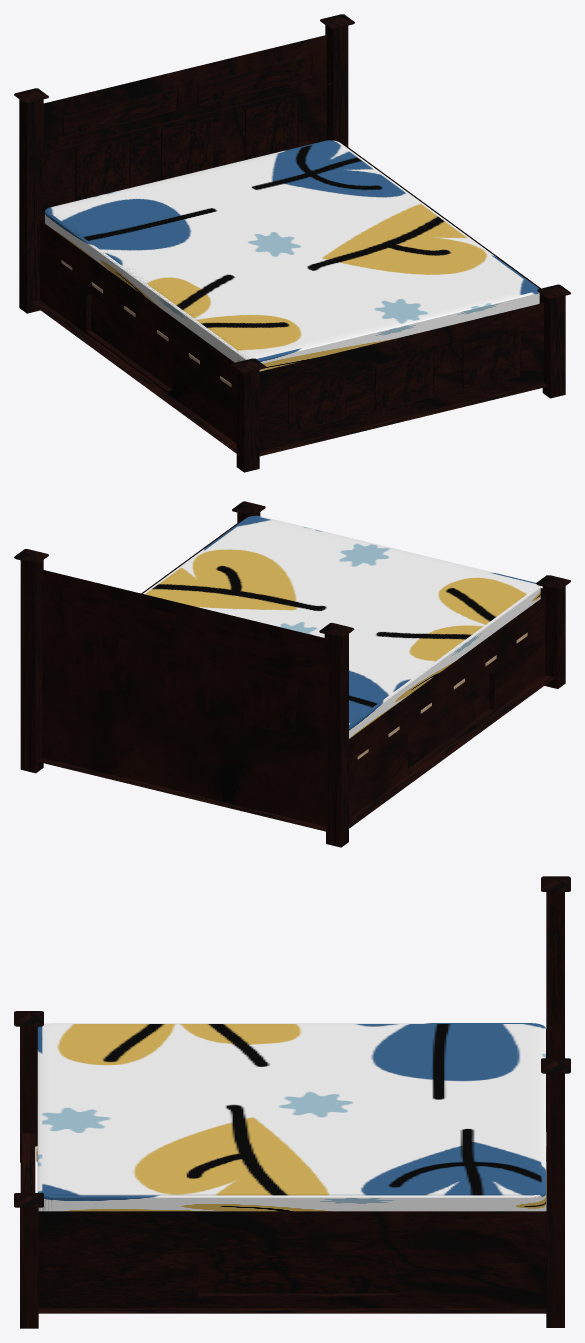
The picture shows the model from 3 angles, top to bottom: view 1: azimuth 30°, elevation 25°; view 2: azimuth 150°, elevation 25°; view 3: azimuth 270°, elevation 25°; orthographic projection. The views are drawn at different scales.
Visible parts, largest first — view 1: Cube.018; view 2: Cube.018; view 3: Cube.018.
Part boxes in pixels (x1=…): Cube.018: x1=14, y1=14, x2=570, y2=472; Cube.018: x1=14, y1=501, x2=570, y2=847; Cube.018: x1=14, y1=876, x2=570, y2=1328.
Bounding box in the file's own units: 3.3 × 2.08 × 3.97.
Materials: 3 (3 with a texture image).
